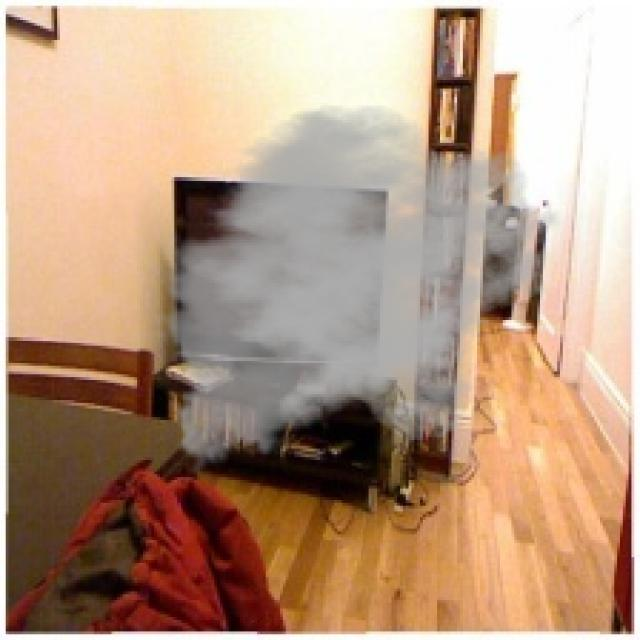smoke: (151, 103, 563, 480)
